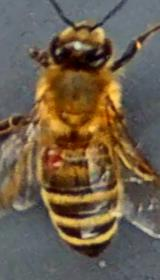varroa_mite: (28, 139, 74, 176)
